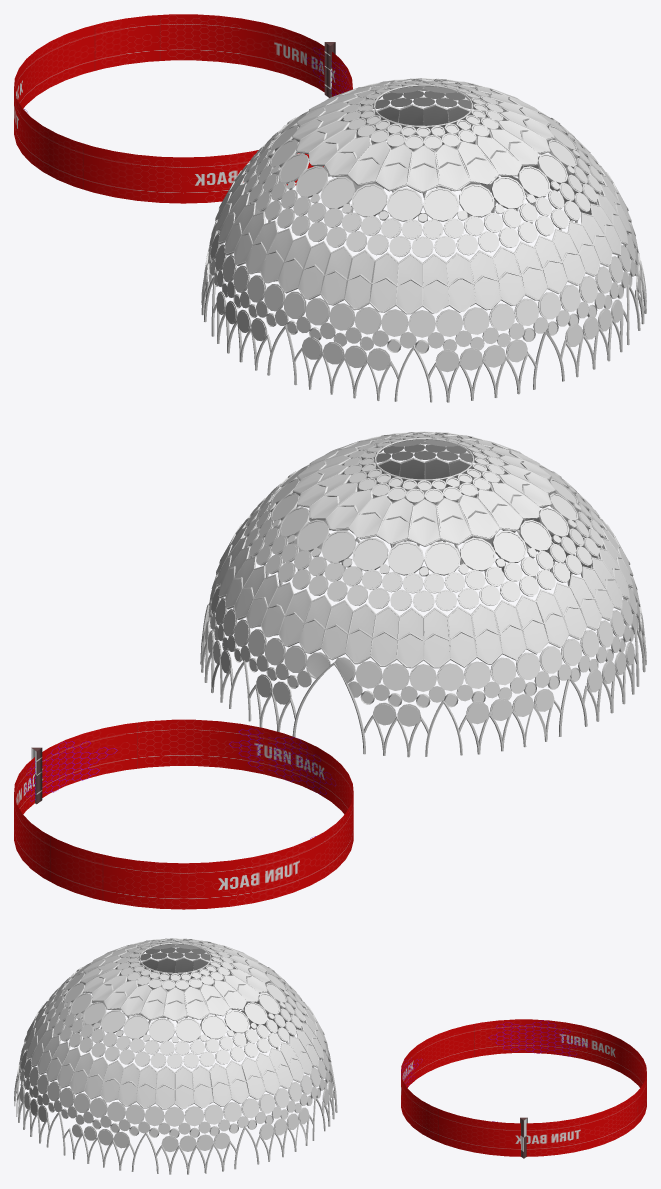
Rendered from DomeBounds.fbx.
3 renders of one model, top to bottom at view 1: azimuth 30°, elevation 25°; view 2: azimuth 150°, elevation 25°; view 3: azimuth 270°, elevation 25°, orthographic. The views are drawn at different scales.
Parts seen in each view (by area): view 1: Shape937, Shape586, Cylinder011, Object, Object001; view 2: Shape937, Cylinder011, Shape586, Object, Object001, overlay; view 3: Shape937, Cylinder011, Shape586, Object, Object001, overlay.
Part boxes in pixels (x1=…): Shape937: x1=204, y1=78, x2=642, y2=371; Shape586: x1=205, y1=78, x2=640, y2=372; Cylinder011: x1=14, y1=14, x2=352, y2=203; Object: x1=201, y1=158, x2=646, y2=402; Object001: x1=217, y1=86, x2=629, y2=341; Shape937: x1=205, y1=432, x2=644, y2=725; Cylinder011: x1=14, y1=719, x2=353, y2=909; Shape586: x1=205, y1=431, x2=643, y2=726; Object: x1=200, y1=530, x2=646, y2=757; Object001: x1=218, y1=439, x2=630, y2=700; overlay: x1=23, y1=728, x2=336, y2=839; Shape937: x1=16, y1=938, x2=332, y2=1151; Cylinder011: x1=401, y1=1019, x2=646, y2=1156; Shape586: x1=17, y1=938, x2=332, y2=1151; Object: x1=14, y1=1009, x2=337, y2=1174; Object001: x1=18, y1=944, x2=325, y2=1132; overlay: x1=401, y1=1020, x2=589, y2=1121.
Bounding box in the file's own units: 26286 × 13268 × 51402.
